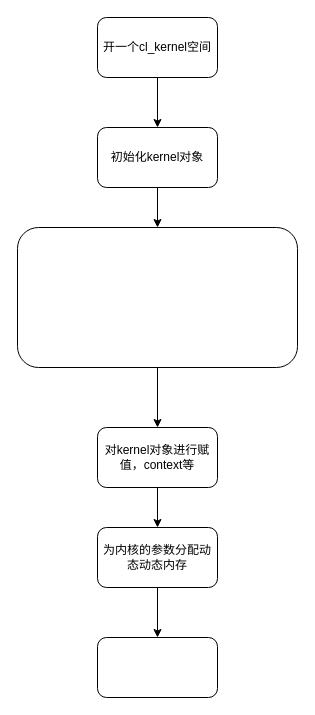
This 315x715 diagram has some shape labels left out. Here are the shapes that lost their labels. From the top down, the box of each, then its label:
(16, 226, 298, 368): 在program对象中找到与对应kernel的kernel元数据（包括kernel的附加信息，编译选项优化信息等）
(96, 636, 218, 698): 交给每一个device去create device
